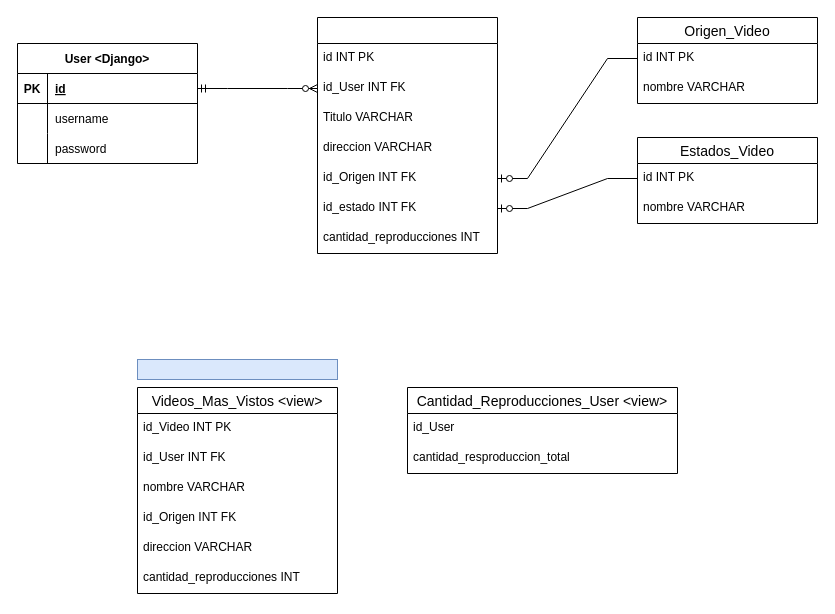
The diagram is 835 pixels wide and 614 high, and some of its shapes have lost their labels. The shapes that lost their labels are listed below. From the top down, each one's box as (x1, y1, x2, y2) in pixels, then its label:
(316, 16, 498, 254): Video
(136, 358, 338, 380): Solo videos en ESTADO="Publico"
